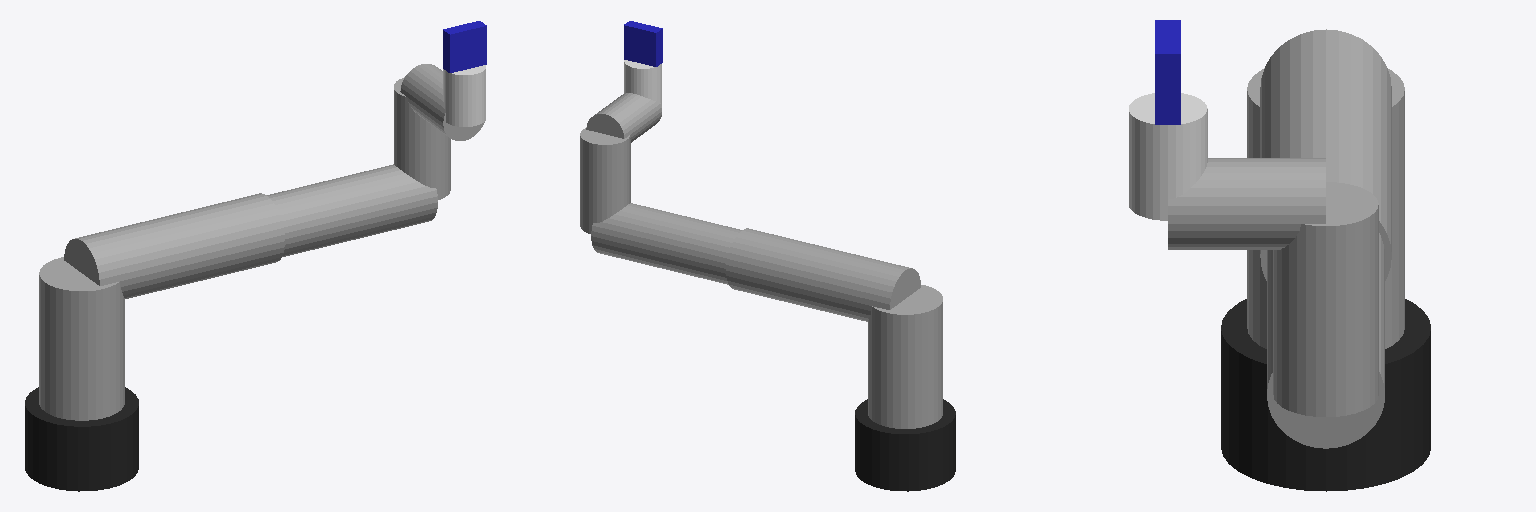
robot.urdf — xarm_6:
<?xml version="1.0" encoding="utf-8"?>
<robot name="xarm_6">
  
  <!-- Base Link -->
  <link name="base_link">
    <inertial>
      <origin xyz="0 0 0.05" rpy="0 0 0" />
      <mass value="2.5" />
      <inertia
        ixx="0.00208333" ixy="0" ixz="0"
        iyy="0.00208333" iyz="0"
        izz="0.00208333" />
    </inertial>
    <visual>
      <origin xyz="0 0 0.05" rpy="0 0 0" />
      <geometry>
        <cylinder radius="0.08" length="0.1" />
      </geometry>
      <material name="base_material">
        <color rgba="0.2 0.2 0.2 1" />
      </material>
    </visual>
    <collision>
      <origin xyz="0 0 0.05" rpy="0 0 0" />
      <geometry>
        <cylinder radius="0.08" length="0.1" />
      </geometry>
    </collision>
  </link>

  <!-- Link 1 -->
  <link name="link1">
    <inertial>
      <origin xyz="0 0 0.1" rpy="0 0 0" />
      <mass value="1.8" />
      <inertia
        ixx="0.00520833" ixy="0" ixz="0"
        iyy="0.00520833" iyz="0"
        izz="0.00208333" />
    </inertial>
    <visual>
      <origin xyz="0 0 0.1" rpy="0 0 0" />
      <geometry>
        <cylinder radius="0.06" length="0.2" />
      </geometry>
      <material name="link_material">
        <color rgba="0.7 0.7 0.7 1" />
      </material>
    </visual>
    <collision>
      <origin xyz="0 0 0.1" rpy="0 0 0" />
      <geometry>
        <cylinder radius="0.06" length="0.2" />
      </geometry>
    </collision>
  </link>

  <!-- Joint 1: Base to Link1 -->
  <joint name="joint1" type="revolute">
    <origin xyz="0 0 0.1" rpy="0 0 0" />
    <parent link="base_link" />
    <child link="link1" />
    <axis xyz="0 0 1" />
    <limit lower="-6.28" upper="6.28" effort="50" velocity="3.14" />
  </joint>

  <!-- Link 2 -->
  <link name="link2">
    <inertial>
      <origin xyz="0.15 0 0" rpy="0 0 0" />
      <mass value="1.5" />
      <inertia
        ixx="0.00208333" ixy="0" ixz="0"
        iyy="0.00781250" iyz="0"
        izz="0.00781250" />
    </inertial>
    <visual>
      <origin xyz="0.15 0 0" rpy="0 1.5708 0" />
      <geometry>
        <cylinder radius="0.05" length="0.3" />
      </geometry>
      <material name="link_material">
        <color rgba="0.7 0.7 0.7 1" />
      </material>
    </visual>
    <collision>
      <origin xyz="0.15 0 0" rpy="0 1.5708 0" />
      <geometry>
        <cylinder radius="0.05" length="0.3" />
      </geometry>
    </collision>
  </link>

  <!-- Joint 2: Link1 to Link2 -->
  <joint name="joint2" type="revolute">
    <origin xyz="0 0 0.2" rpy="1.5708 0 0" />
    <parent link="link1" />
    <child link="link2" />
    <axis xyz="0 0 1" />
    <limit lower="-2.09" upper="2.09" effort="50" velocity="3.14" />
  </joint>

  <!-- Link 3 -->
  <link name="link3">
    <inertial>
      <origin xyz="0.125 0 0" rpy="0 0 0" />
      <mass value="1.2" />
      <inertia
        ixx="0.00208333" ixy="0" ixz="0"
        iyy="0.00520833" iyz="0"
        izz="0.00520833" />
    </inertial>
    <visual>
      <origin xyz="0.125 0 0" rpy="0 1.5708 0" />
      <geometry>
        <cylinder radius="0.045" length="0.25" />
      </geometry>
      <material name="link_material">
        <color rgba="0.7 0.7 0.7 1" />
      </material>
    </visual>
    <collision>
      <origin xyz="0.125 0 0" rpy="0 1.5708 0" />
      <geometry>
        <cylinder radius="0.045" length="0.25" />
      </geometry>
    </collision>
  </link>

  <!-- Joint 3: Link2 to Link3 -->
  <joint name="joint3" type="revolute">
    <origin xyz="0.3 0 0" rpy="0 0 0" />
    <parent link="link2" />
    <child link="link3" />
    <axis xyz="0 0 1" />
    <limit lower="-6.28" upper="6.28" effort="30" velocity="3.14" />
  </joint>

  <!-- Link 4 -->
  <link name="link4">
    <inertial>
      <origin xyz="0 0 0.08" rpy="0 0 0" />
      <mass value="0.8" />
      <inertia
        ixx="0.00208333" ixy="0" ixz="0"
        iyy="0.00208333" iyz="0"
        izz="0.00104167" />
    </inertial>
    <visual>
      <origin xyz="0 0 0.08" rpy="0 0 0" />
      <geometry>
        <cylinder radius="0.04" length="0.16" />
      </geometry>
      <material name="link_material">
        <color rgba="0.7 0.7 0.7 1" />
      </material>
    </visual>
    <collision>
      <origin xyz="0 0 0.08" rpy="0 0 0" />
      <geometry>
        <cylinder radius="0.04" length="0.16" />
      </geometry>
    </collision>
  </link>

  <!-- Joint 4: Link3 to Link4 -->
  <joint name="joint4" type="revolute">
    <origin xyz="0.25 0 0" rpy="-1.5708 0 0" />
    <parent link="link3" />
    <child link="link4" />
    <axis xyz="0 0 1" />
    <limit lower="-6.28" upper="6.28" effort="30" velocity="3.14" />
  </joint>

  <!-- Link 5 -->
  <link name="link5">
    <inertial>
      <origin xyz="0 0 0.06" rpy="0 0 0" />
      <mass value="0.6" />
      <inertia
        ixx="0.00104167" ixy="0" ixz="0"
        iyy="0.00104167" iyz="0"
        izz="0.00052083" />
    </inertial>
    <visual>
      <origin xyz="0 0 0.06" rpy="0 0 0" />
      <geometry>
        <cylinder radius="0.035" length="0.12" />
      </geometry>
      <material name="link_material">
        <color rgba="0.7 0.7 0.7 1" />
      </material>
    </visual>
    <collision>
      <origin xyz="0 0 0.06" rpy="0 0 0" />
      <geometry>
        <cylinder radius="0.035" length="0.12" />
      </geometry>
    </collision>
  </link>

  <!-- Joint 5: Link4 to Link5 -->
  <joint name="joint5" type="revolute">
    <origin xyz="0 0 0.16" rpy="1.5708 0 0" />
    <parent link="link4" />
    <child link="link5" />
    <axis xyz="0 0 1" />
    <limit lower="-1.69" upper="3.84" effort="20" velocity="3.14" />
  </joint>

  <!-- Link 6 (End Effector) -->
  <link name="link6">
    <inertial>
      <origin xyz="0 0 0.04" rpy="0 0 0" />
      <mass value="0.4" />
      <inertia
        ixx="0.00052083" ixy="0" ixz="0"
        iyy="0.00052083" iyz="0"
        izz="0.00026042" />
    </inertial>
    <visual>
      <origin xyz="0 0 0.04" rpy="0 0 0" />
      <geometry>
        <cylinder radius="0.03" length="0.08" />
      </geometry>
      <material name="end_effector_material">
        <color rgba="0.9 0.9 0.9 1" />
      </material>
    </visual>
    <collision>
      <origin xyz="0 0 0.04" rpy="0 0 0" />
      <geometry>
        <cylinder radius="0.03" length="0.08" />
      </geometry>
    </collision>
  </link>

  <!-- Joint 6: Link5 to Link6 -->
  <joint name="joint6" type="revolute">
    <origin xyz="0 0 0.12" rpy="-1.5708 0 0" />
    <parent link="link5" />
    <child link="link6" />
    <axis xyz="0 0 1" />
    <limit lower="-6.28" upper="6.28" effort="20" velocity="3.14" />
  </joint>

  <!-- Tool Center Point (TCP) -->
  <link name="tcp_link" />
  
  <joint name="tcp_joint" type="fixed">
    <origin xyz="0 0 0.08" rpy="0 0 0" />
    <parent link="link6" />
    <child link="tcp_link" />
  </joint>

  <!-- Optional Gripper Link -->
  <link name="gripper_link">
    <inertial>
      <origin xyz="0 0 0.03" rpy="0 0 0" />
      <mass value="0.2" />
      <inertia
        ixx="0.00013" ixy="0" ixz="0"
        iyy="0.00013" iyz="0"
        izz="0.00013" />
    </inertial>
    <visual>
      <origin xyz="0 0 0.03" rpy="0 0 0" />
      <geometry>
        <box size="0.06 0.02 0.06" />
      </geometry>
      <material name="gripper_material">
        <color rgba="0.2 0.2 0.8 1" />
      </material>
    </visual>
    <collision>
      <origin xyz="0 0 0.03" rpy="0 0 0" />
      <geometry>
        <box size="0.06 0.02 0.06" />
      </geometry>
    </collision>
  </link>

  <!-- Gripper Joint -->
  <joint name="gripper_joint" type="fixed">
    <origin xyz="0 0 0.08" rpy="0 0 0" />
    <parent link="link6" />
    <child link="gripper_link" />
  </joint>

</robot>

--- What the picture shows (computed from the rendered views, not written in the file) ---
3 views of the same robot in one strip: view 1: azimuth 30°, elevation 25°; view 2: azimuth 150°, elevation 25°; view 3: azimuth 270°, elevation 25° (orthographic).
Model xarm_6 with 9 links and 8 joints (6 revolute, 2 fixed), rooted at base_link, posed all joints at 0.
Visible links, largest first — view 1: link2, link1, link3, base_link, link4, link5, link6, gripper_link; view 2: link2, link1, link3, base_link, link4, link5, gripper_link, link6; view 3: link4, base_link, link2, link5, link6, link1, link3, gripper_link.
Link boxes in pixels (x1,y1,x2,y2): link2: (64, 193, 284, 298); link1: (39, 257, 124, 420); link3: (267, 164, 437, 256); base_link: (25, 387, 138, 491); link4: (394, 77, 450, 199); link5: (400, 64, 484, 140); link6: (443, 65, 485, 126); gripper_link: (443, 21, 486, 72); link2: (726, 228, 920, 321); link1: (868, 285, 942, 428); link3: (591, 203, 741, 284); base_link: (855, 399, 955, 491); link4: (580, 127, 630, 233); link5: (586, 93, 661, 142); gripper_link: (624, 21, 662, 66); link6: (624, 60, 661, 105); link4: (1273, 182, 1378, 416); base_link: (1221, 299, 1430, 491); link2: (1260, 29, 1391, 280); link5: (1168, 158, 1325, 249); link6: (1129, 93, 1207, 220); link1: (1247, 68, 1404, 348); link3: (1267, 233, 1384, 448); gripper_link: (1155, 20, 1180, 124).
Bounding box of the posed robot: 0.67 × 0.23 × 0.6 m (x, y, z).
Geometry: primitives only (box / cylinder / sphere), no mesh files.